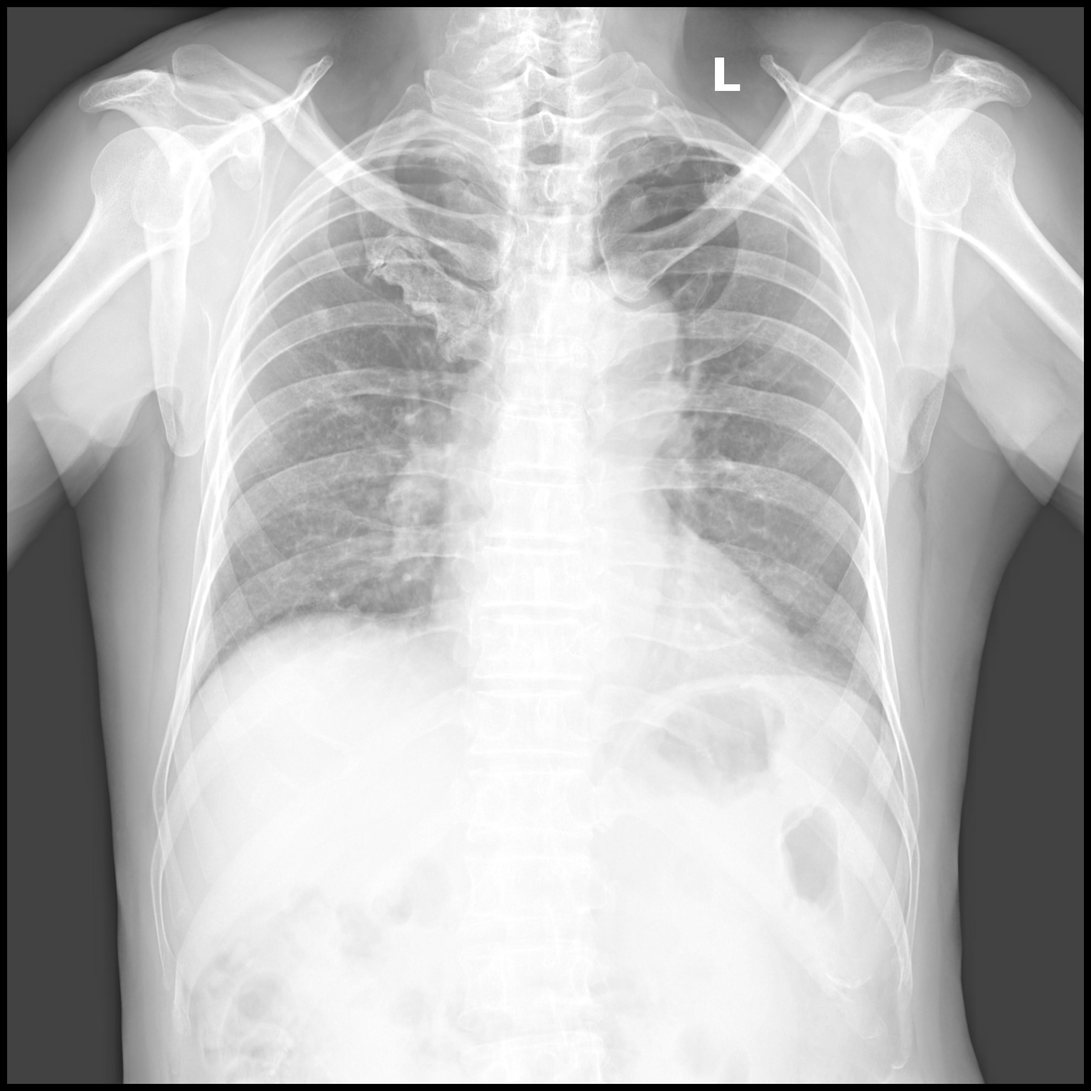Aortic enlargement: (556, 266, 679, 411)
Cardiomegaly: (424, 563, 804, 692)
Pleural thickening: (608, 132, 688, 185), (355, 138, 471, 161)
Pulmonary fibrosis: (305, 293, 353, 321)
